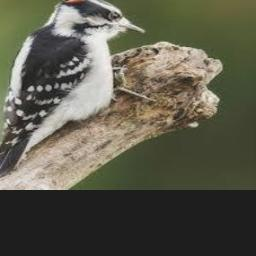Woodpecker: (0, 0, 158, 183)
